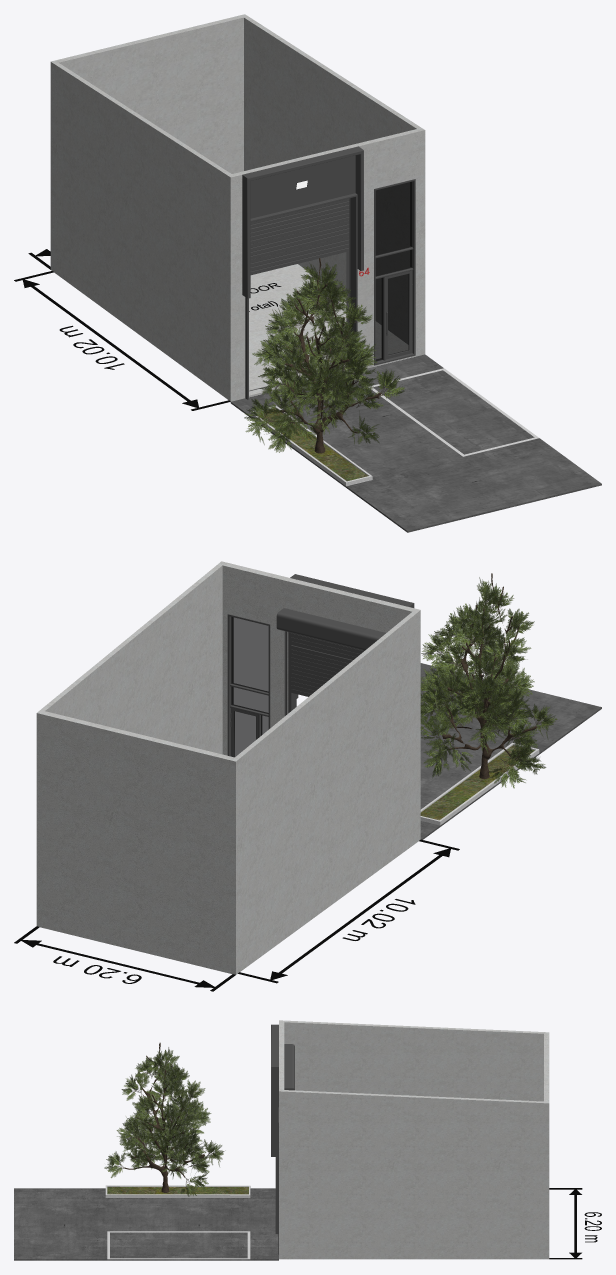
Rendered from Without_Mezzanine.glb.
3 renders of one model, top to bottom at view 1: azimuth 30°, elevation 25°; view 2: azimuth 150°, elevation 25°; view 3: azimuth 270°, elevation 25°, orthographic. The views are drawn at different scales.
Parts seen in each view (by area): view 1: Object1746170105, Box2131647076, Box2131646542, Object1746168793, Object1834019083, Object1834019082, DIM_Line_001; view 2: Object1746170105, Object1746168793, Box2131646542, Box2131647076, Object1834019083, DIM_Line_001, DIM_Line_002; view 3: Object1746170105, Box2131647076, Object1746168793, Box2131646542, Object1834019083, Object1834019082, DIM_Line_002.
Part boxes in pixels (bbox=[...]): Object1746170105: bbox=[50, 14, 425, 401]; Box2131647076: bbox=[230, 354, 601, 532]; Box2131646542: bbox=[242, 146, 415, 399]; Object1746168793: bbox=[244, 258, 404, 453]; Object1834019083: bbox=[249, 405, 372, 486]; Object1834019082: bbox=[368, 368, 539, 456]; DIM_Line_001: bbox=[14, 271, 230, 410]; Object1746170105: bbox=[36, 561, 420, 974]; Object1746168793: bbox=[420, 573, 557, 788]; Box2131646542: bbox=[227, 574, 414, 757]; Box2131647076: bbox=[420, 663, 601, 839]; Object1834019083: bbox=[420, 742, 539, 825]; DIM_Line_001: bbox=[238, 839, 459, 983]; DIM_Line_002: bbox=[14, 926, 235, 991]; Object1746170105: bbox=[279, 1020, 549, 1259]; Box2131647076: bbox=[14, 1188, 278, 1260]; Object1746168793: bbox=[104, 1042, 224, 1196]; Box2131646542: bbox=[271, 1024, 294, 1254]; Object1834019083: bbox=[105, 1185, 250, 1197]; Object1834019082: bbox=[107, 1231, 250, 1259]; DIM_Line_002: bbox=[549, 1188, 582, 1259].
Bounding box in the file's own units: 8.33 × 7.08 × 22.19.
Materials: 18 (8 with a texture image).
